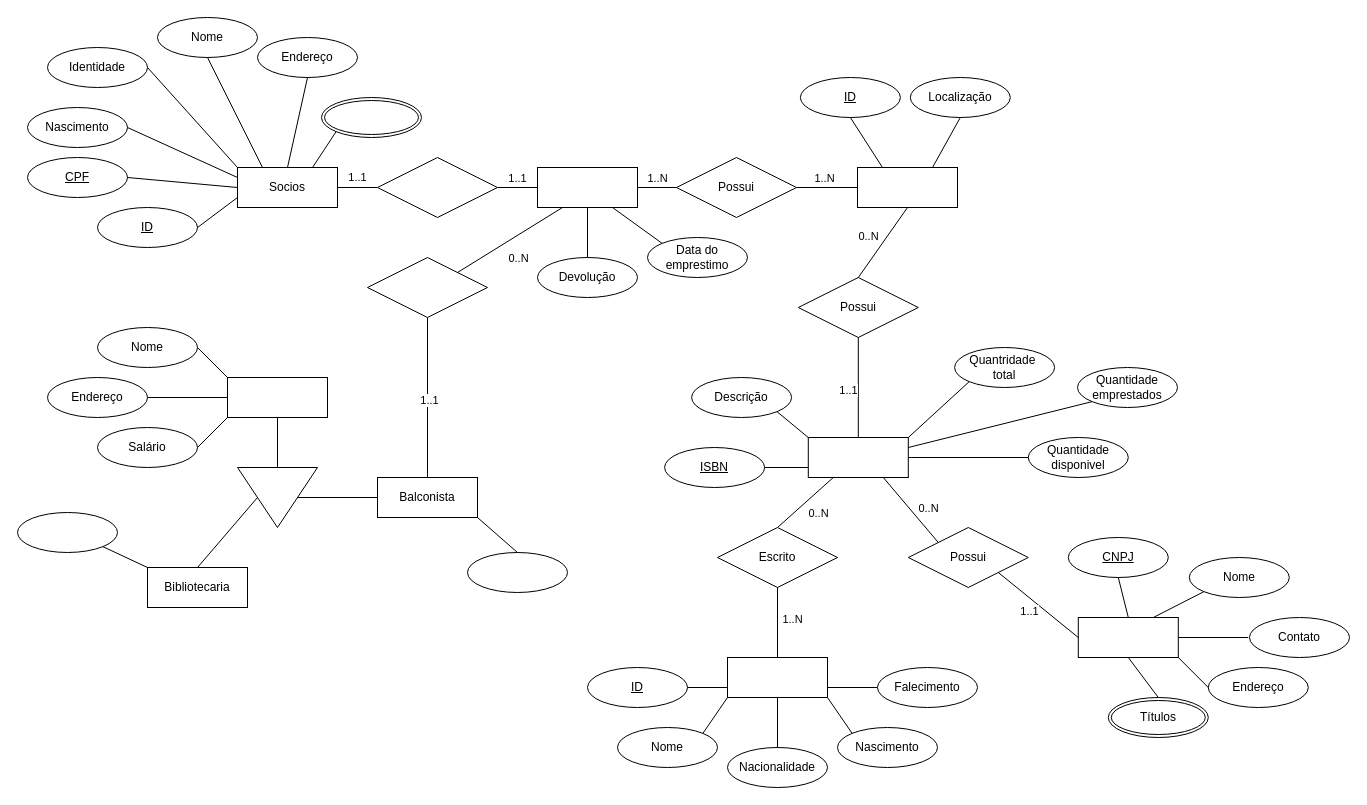
This 1367x805 diagram has some shape labels left out. Each missing label, with the box of its shape:
Autor: (726, 656, 828, 698)
Editora: (1077, 616, 1178, 658)
Emprestimo: (536, 166, 638, 208)
Exemplar: (856, 166, 958, 208)
Funcionário: (226, 376, 328, 418)
ISA: (236, 466, 318, 528)
Realizam: (376, 156, 498, 218)
Registrado: (366, 256, 488, 318)
Registro: (16, 512, 118, 552)
Telefones: (320, 96, 422, 138)
Titulo: (807, 436, 908, 478)
Turno: (466, 552, 568, 592)
